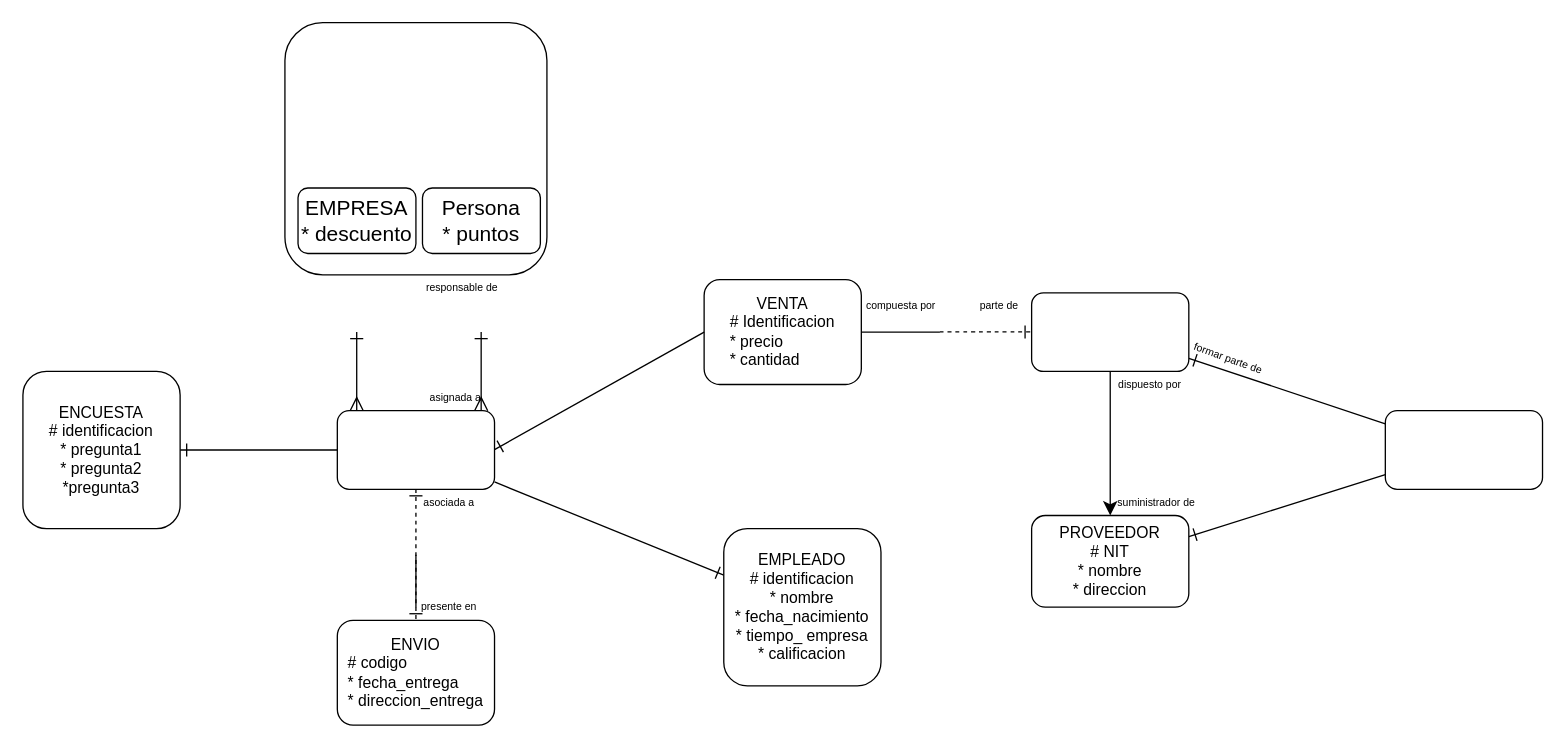
This 1565x749 diagram has some shape labels left out. Here are the shapes that lost their labels. From the top down, the box of each, then its label:
(284, 21, 547, 275): COMPRADOR # identificacion * nombre * cantidad
(1030, 291, 1189, 371): PRODUCTO # codigo * nombre * precio
(336, 409, 495, 489): FACTURA # codigo * ventas * fecha
(1384, 409, 1543, 489): LINEA INVENTARIO * cantidad
